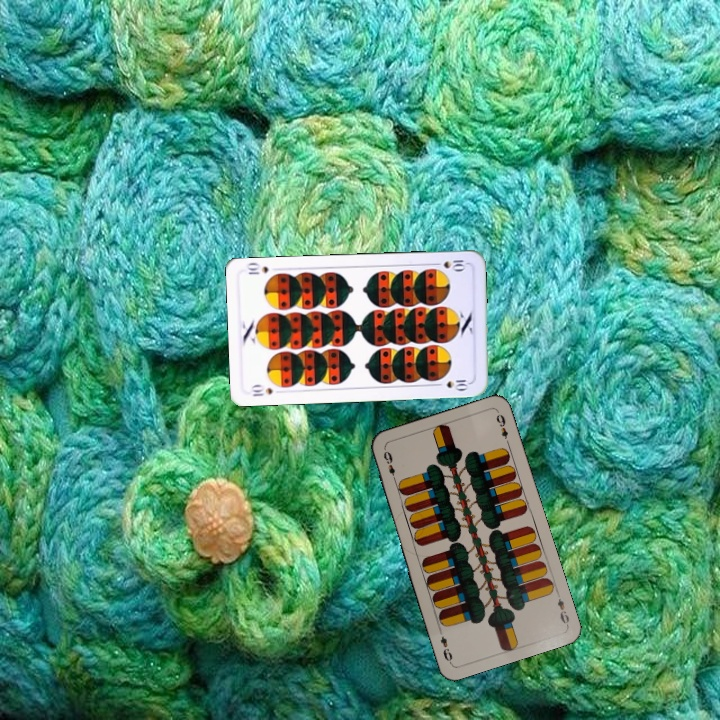E9: (379, 445, 399, 485), (552, 588, 572, 628)
S10: (429, 255, 469, 273), (248, 381, 275, 399)
